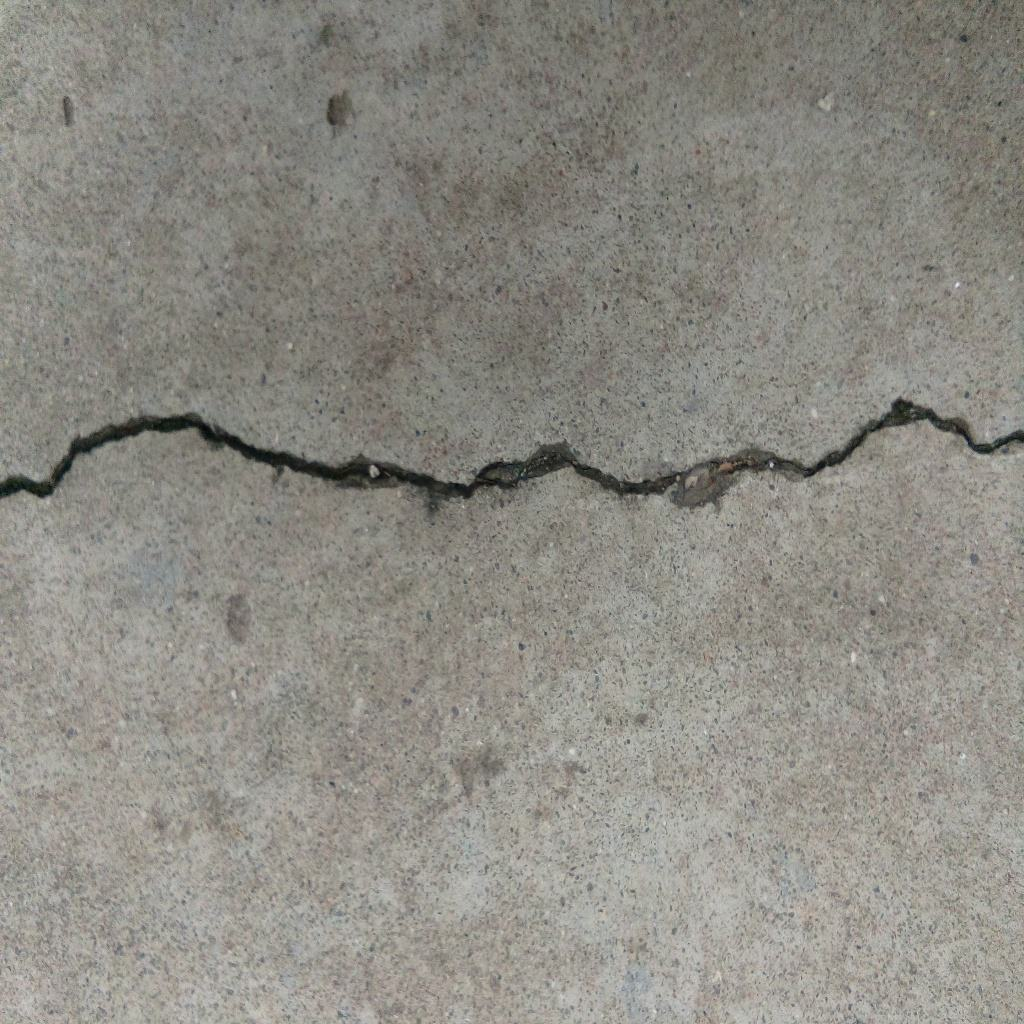Crack: (1, 395, 1024, 512)
